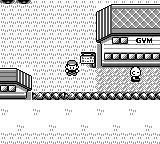leer: (81, 53, 96, 68)
main: (64, 61, 80, 75)
no-caminable: (97, 4, 159, 67), (0, 68, 31, 99), (1, 0, 30, 4)
npc: (130, 67, 142, 82)
salto: (32, 92, 159, 100)
